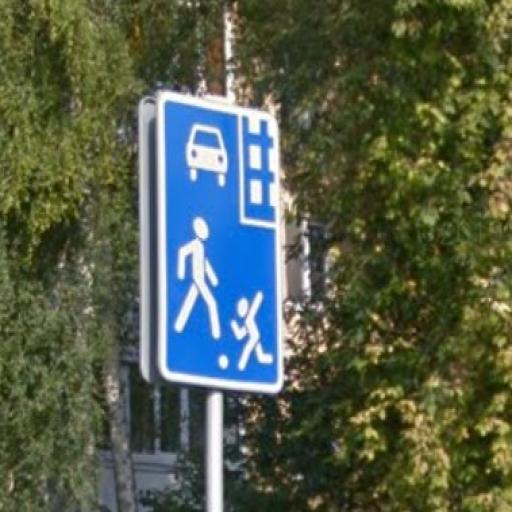traffic_sign: (156, 88, 286, 396)
